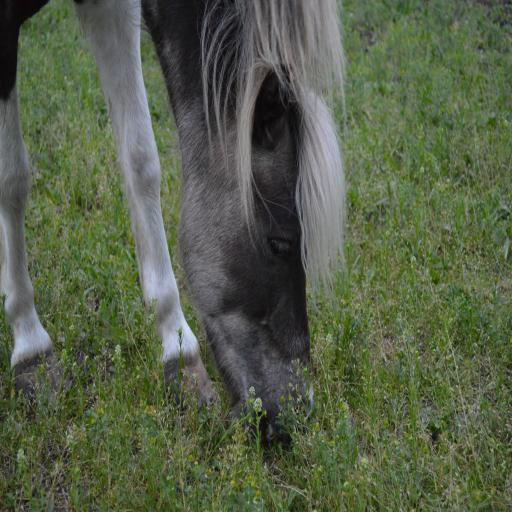Horse: (0, 0, 348, 453)
